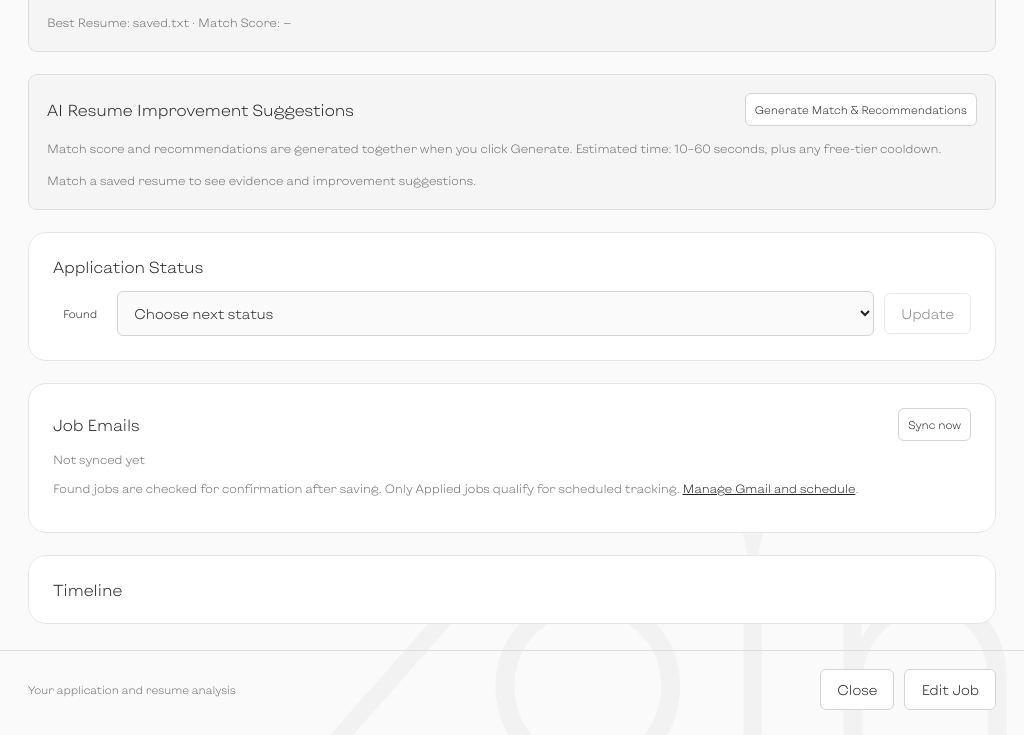
it: edit job import only replaces existing content with explicit option
(page scrolled)
Click the button "Edit Job". click: {"x": 950, "y": 689}
box: [904,669,996,710]
(page scrolled)
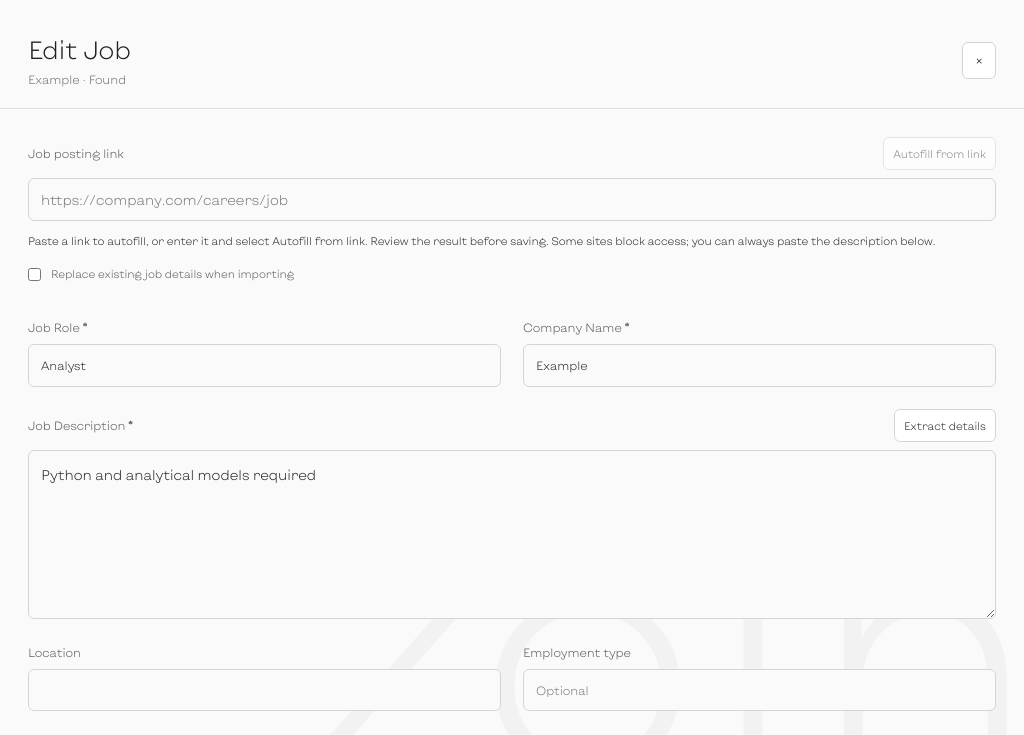
Type "https://example.com/job" into the field labelled "Job posting link". click: {"x": 512, "y": 200}
box: [28,178,996,221]
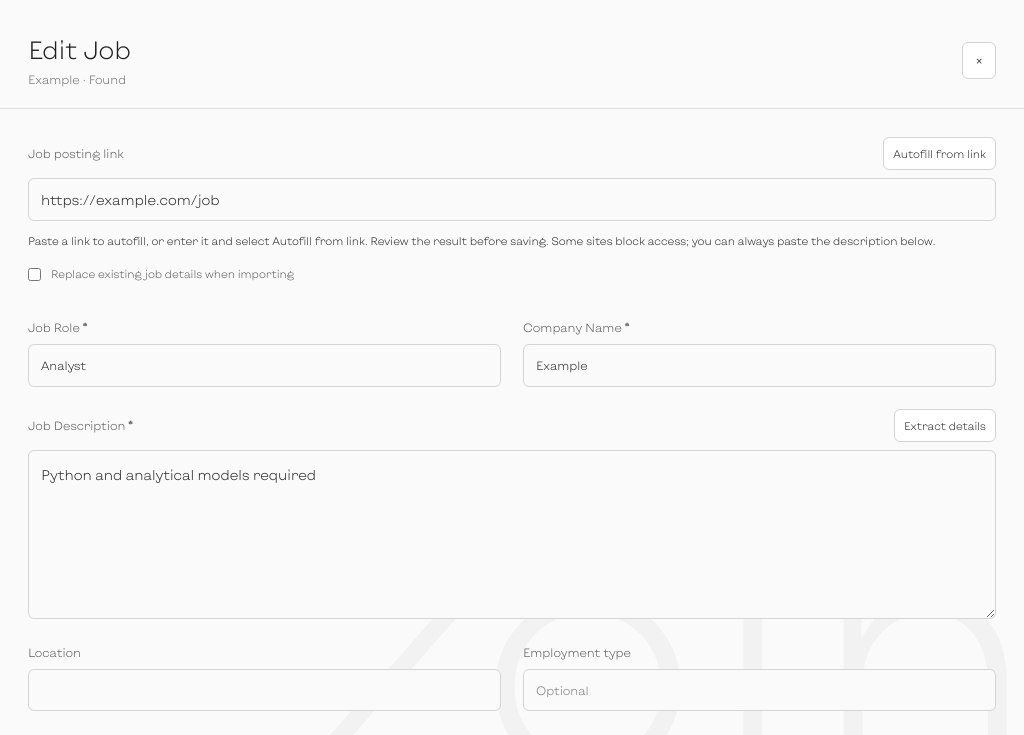
Click the checkbox labelled "Replace existing job details when importing". click: {"x": 34, "y": 274}
box: [28,268,41,280]
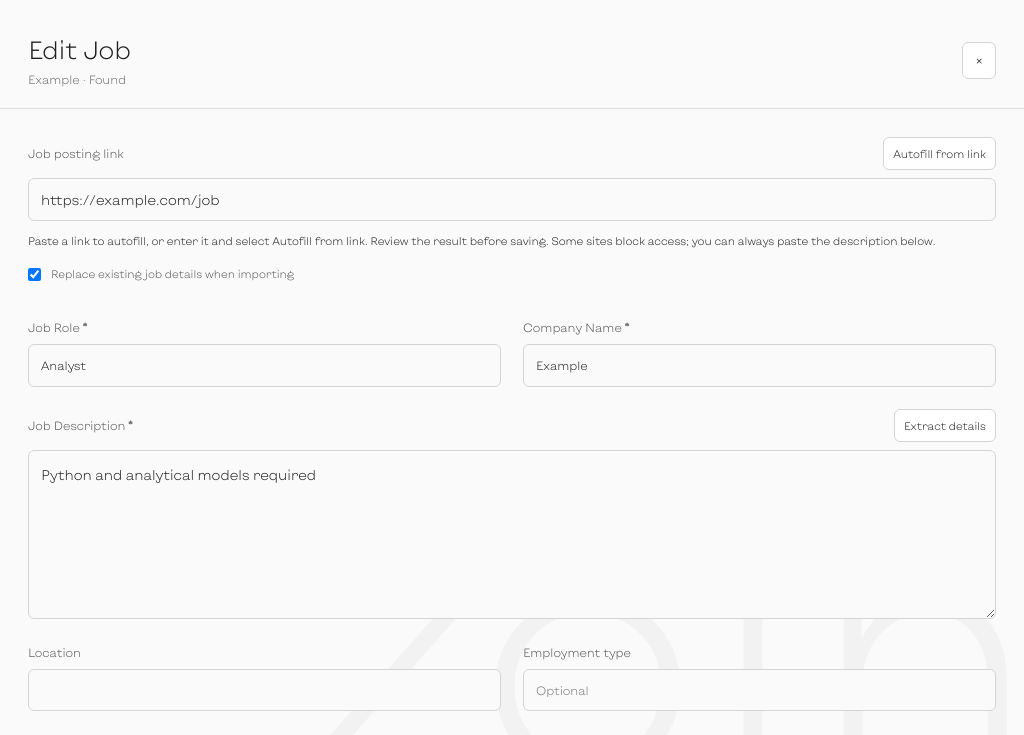
Click the button "Autofill from link". click: {"x": 940, "y": 154}
box: [883,137,996,170]
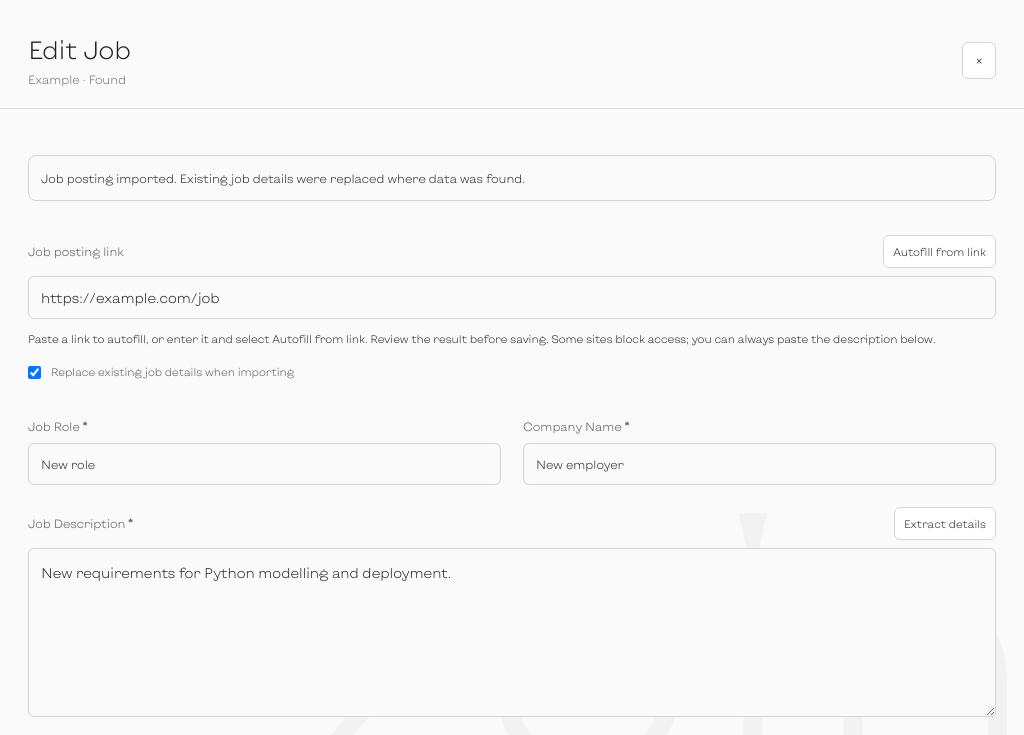
Result: the text "Job posting imported. Existing job details were replaced where data was found." is shown at [28,155,996,201]
Result: the field labelled "Company Name *" holds "New employer" at [523,443,996,485]
Result: the field labelled "Job Role *" holds "New role" at [28,443,501,485]
